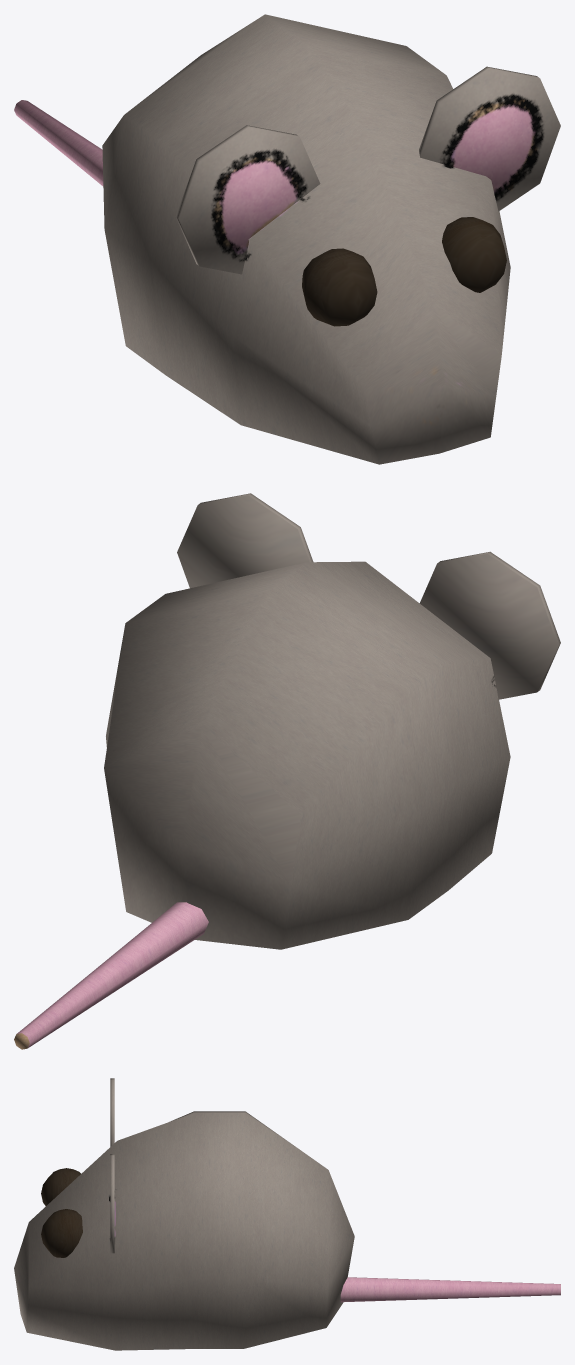
File: 20s_RatDoll.fbx
3 renders of one model, top to bottom at view 1: azimuth 30°, elevation 25°; view 2: azimuth 150°, elevation 25°; view 3: azimuth 270°, elevation 25°, orthographic. The views are drawn at different scales.
Visible parts, largest first — view 1: 20s_MouseToy; view 2: 20s_MouseToy; view 3: 20s_MouseToy.
Boxes of the visible parts, bbox=[...] form: 20s_MouseToy: bbox=[14, 14, 560, 464]; 20s_MouseToy: bbox=[14, 493, 560, 1049]; 20s_MouseToy: bbox=[14, 1078, 560, 1350].
Size of the model in its own units: 33.43 by 26.15 by 64.21.
Materials: 1 (1 with a texture image).
